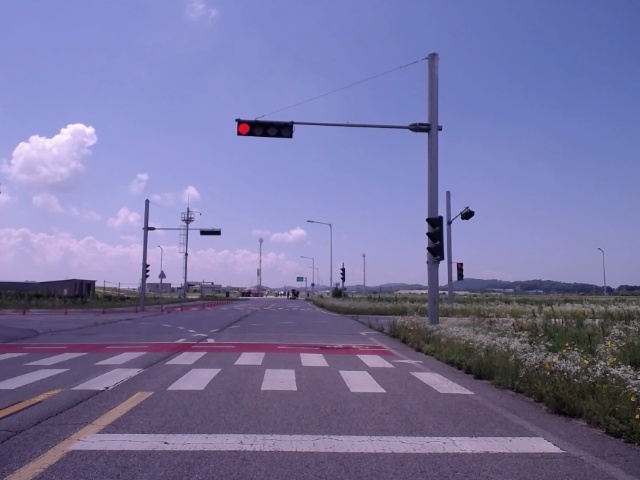red_4: (237, 119, 293, 139)
